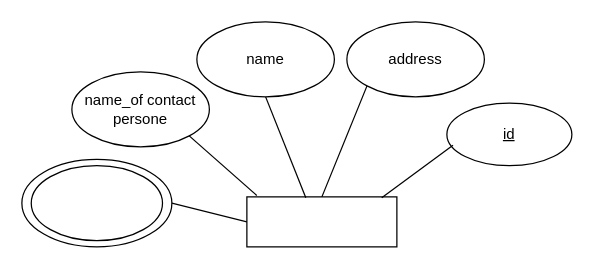
Some shapes in this 594 by 269 pixel diagram are drawn without their labels. The centre of each missing label's shape, as x and y in pixels:
"airlines" belongs at (321,221).
"telephone numbers" belongs at (96,202).
